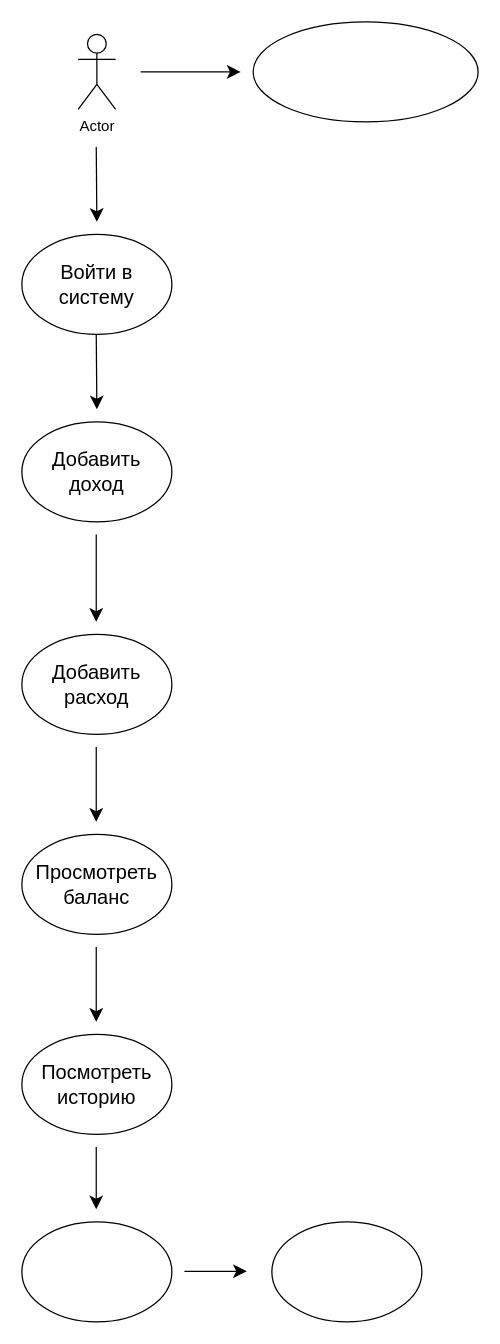
This 500x1344 diagram has some shape labels left out. The shapes that lost their labels are listed below. From the top down, each one's box as (x1, y1, x2, y2) in pixels, then its label:
(252, 21, 478, 122): Зарегистрировался
(21, 1221, 172, 1322): Отфильтровать операции
(271, 1221, 422, 1322): Посмотреть диаграмму
